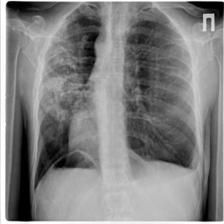tuberculosis: (30, 1, 202, 189)
